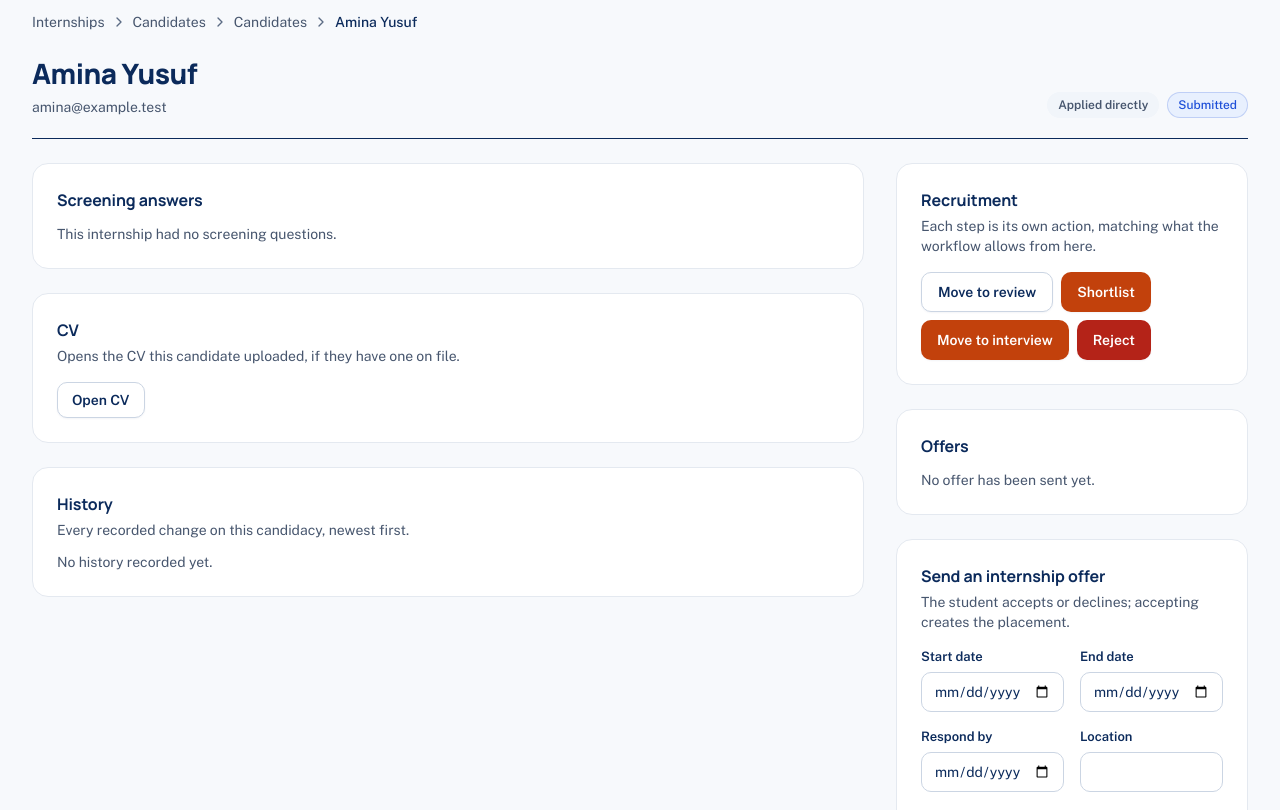
recruiter candidate actions › leaves the candidate where they were when the API refuses the transition
expect the heading "Amina Yusuf" is shown: met, box left=32, top=56, right=197, bottom=90
Click the button "Shortlist" at {"x": 1106, "y": 292}, box left=1061, top=272, right=1151, bottom=312
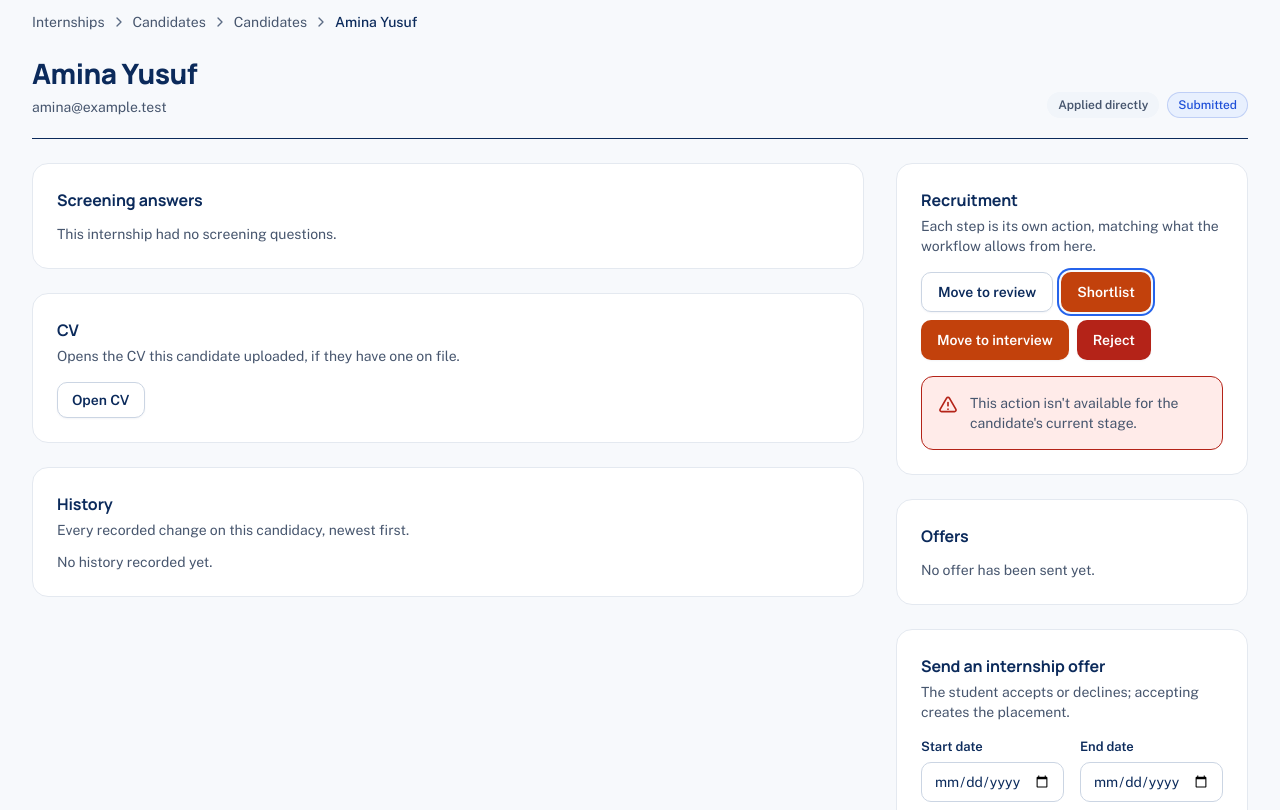
expect the text "Submitted" is shown: met, box left=1167, top=92, right=1248, bottom=118
expect the message shows "isn't available for the candidate's current stage": met, box left=970, top=395, right=1178, bottom=431
